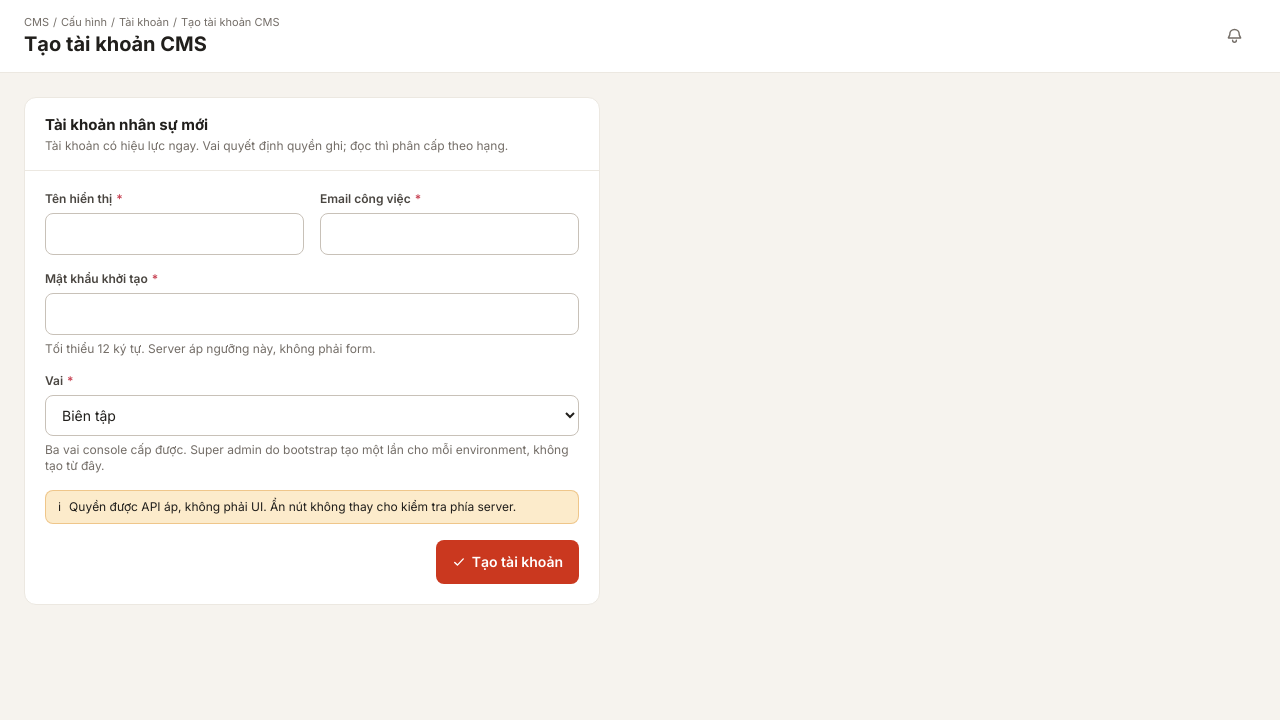
Scenario: NewAccountScreen (CMS-020) › creates the account and never echoes the password back
Type "Vy Vo" into the field labelled "Tên hiển thị*".
click(174, 234); type("Vy Vo")  # box [45,213,304,255]
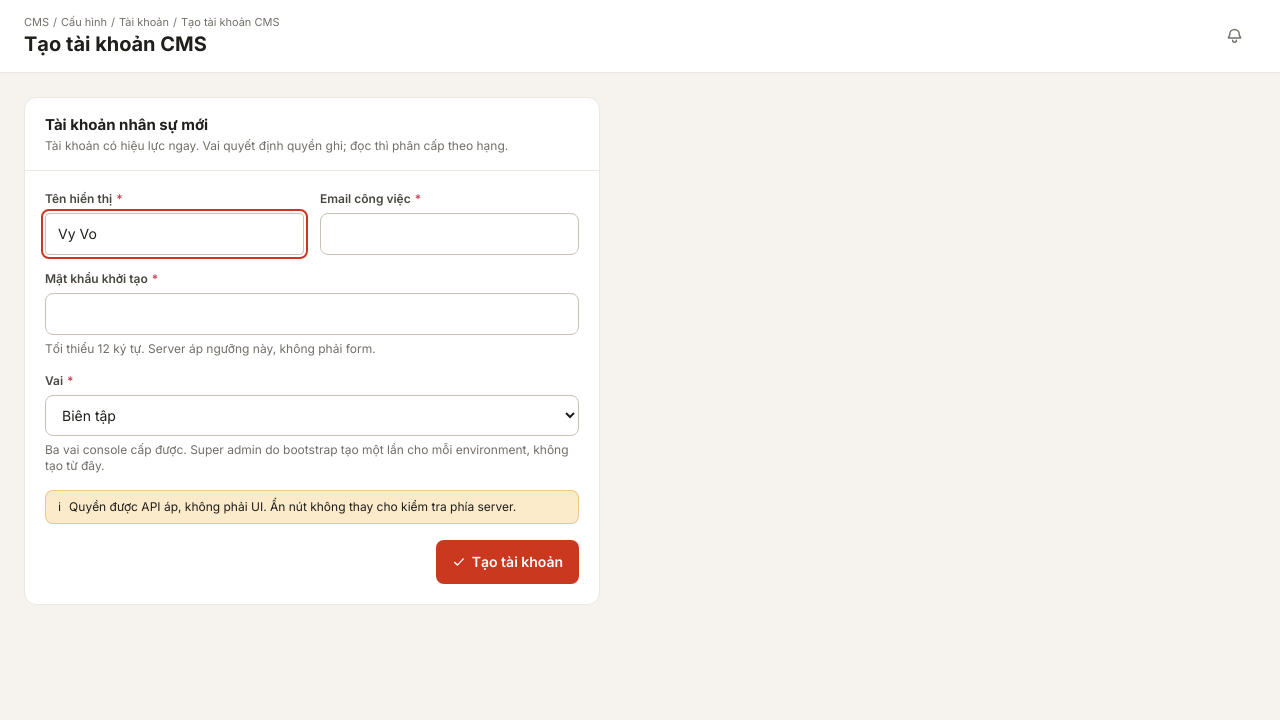
Type "vy.vo@gogo.vn" into the field labelled "Email công việc*".
click(450, 234); type("vy.vo@gogo.vn")  # box [320,213,579,255]
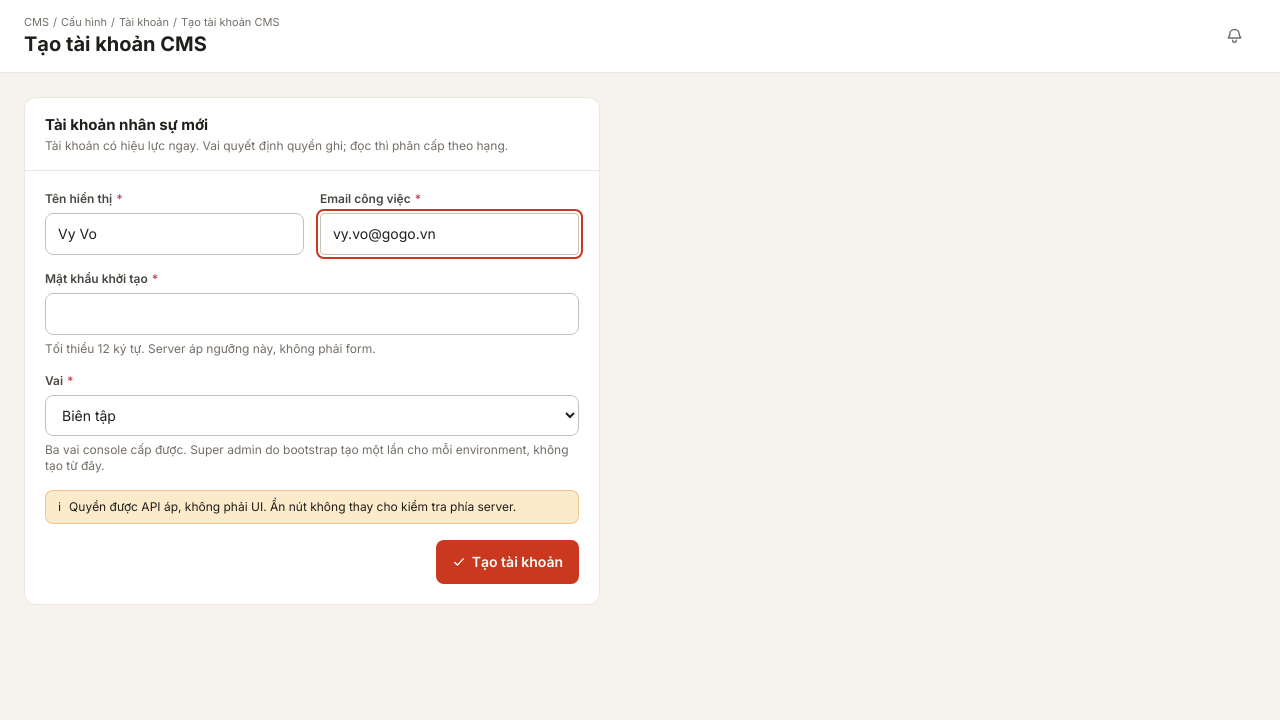
Type "correct-horse-battery" into the password field labelled "Mật khẩu khởi tạo*".
click(312, 314); type("correct-horse-battery")  # box [45,293,579,335]
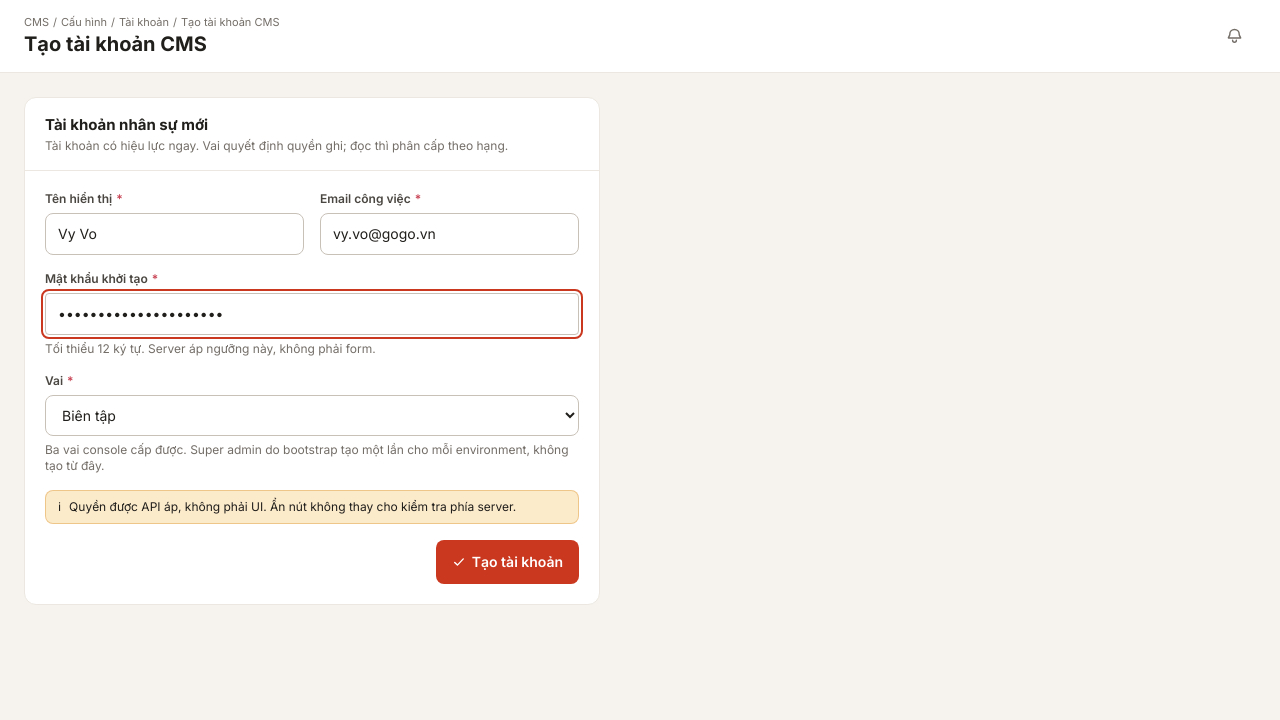
Click the button "Tạo tài khoản".
click(507, 562)  # box [436,540,579,584]
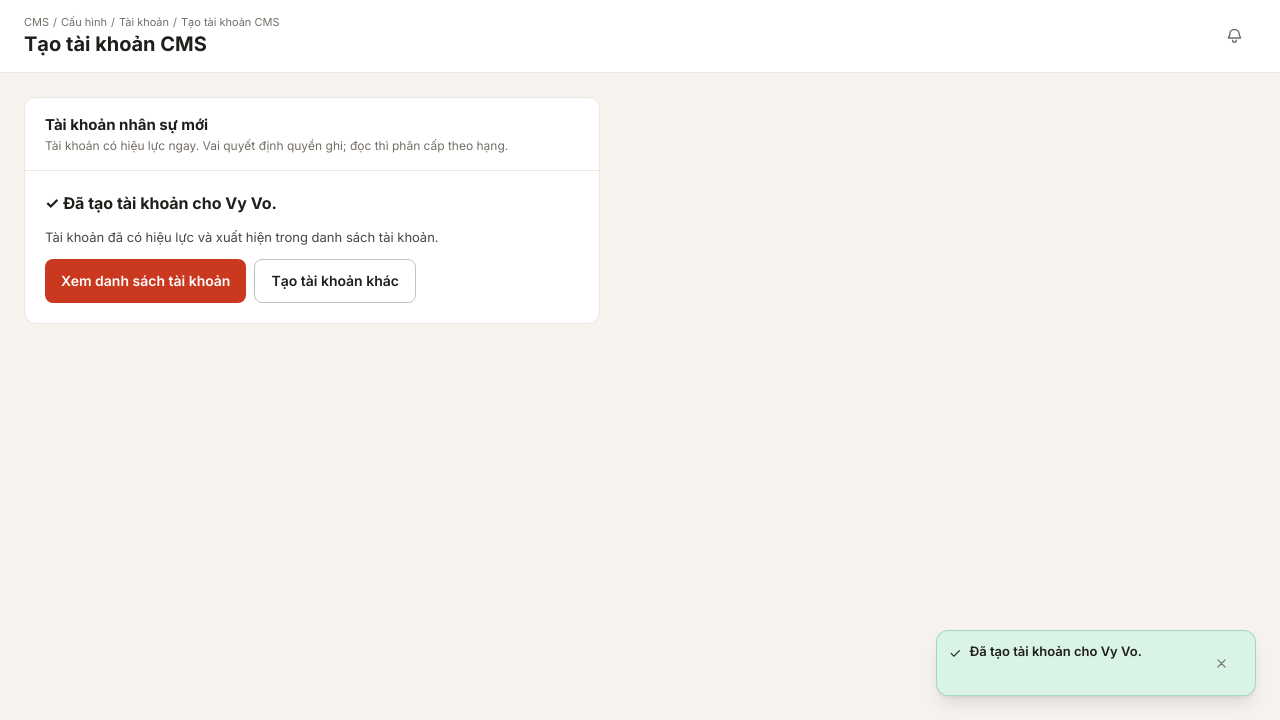
Expected: the text "✓ Đã tạo tài khoản cho Vy Vo." is shown, [45,193,277,213]
Expected: the text "xuất hiện trong danh sách tài khoản" is shown, [45,229,439,245]
Expected: the button "Xem danh sách tài khoản" is shown, [45,259,246,303]
